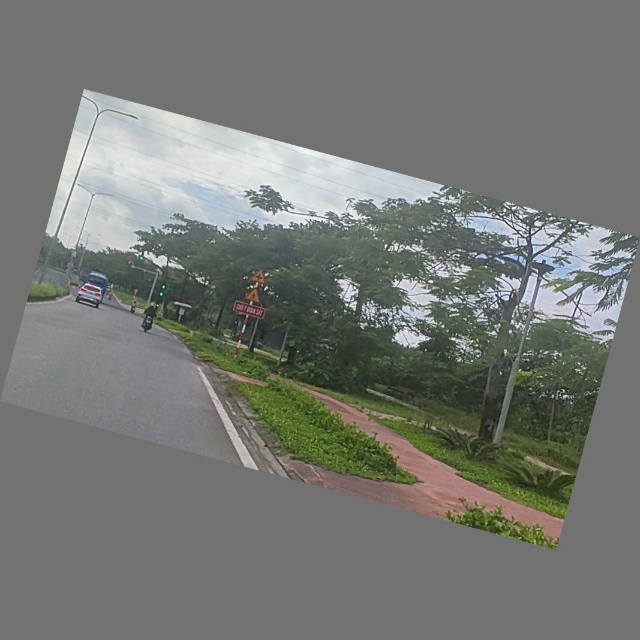W.205a: (249, 268, 270, 285)
W.224: (243, 286, 266, 307)
